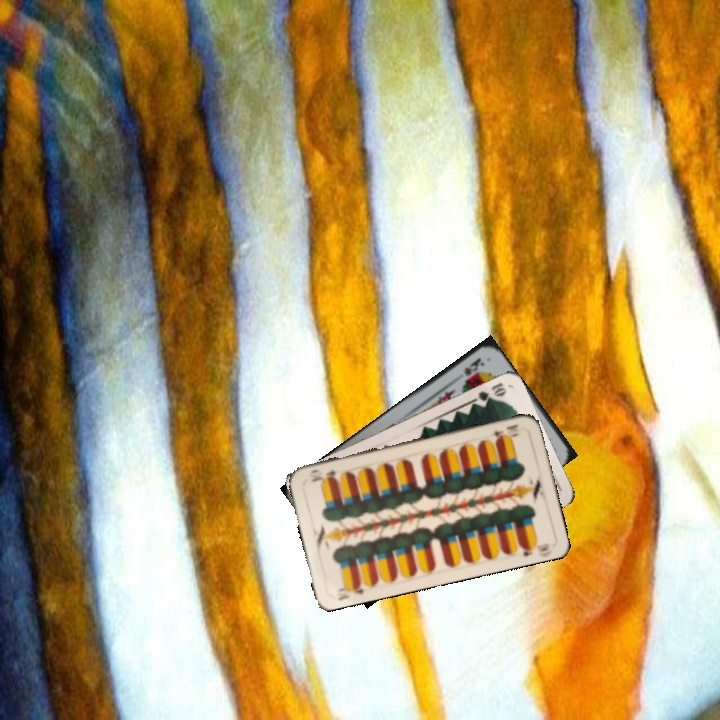E10: (333, 578, 368, 603), (486, 420, 521, 444)
G10: (470, 379, 510, 409)
SK: (460, 354, 487, 379)
